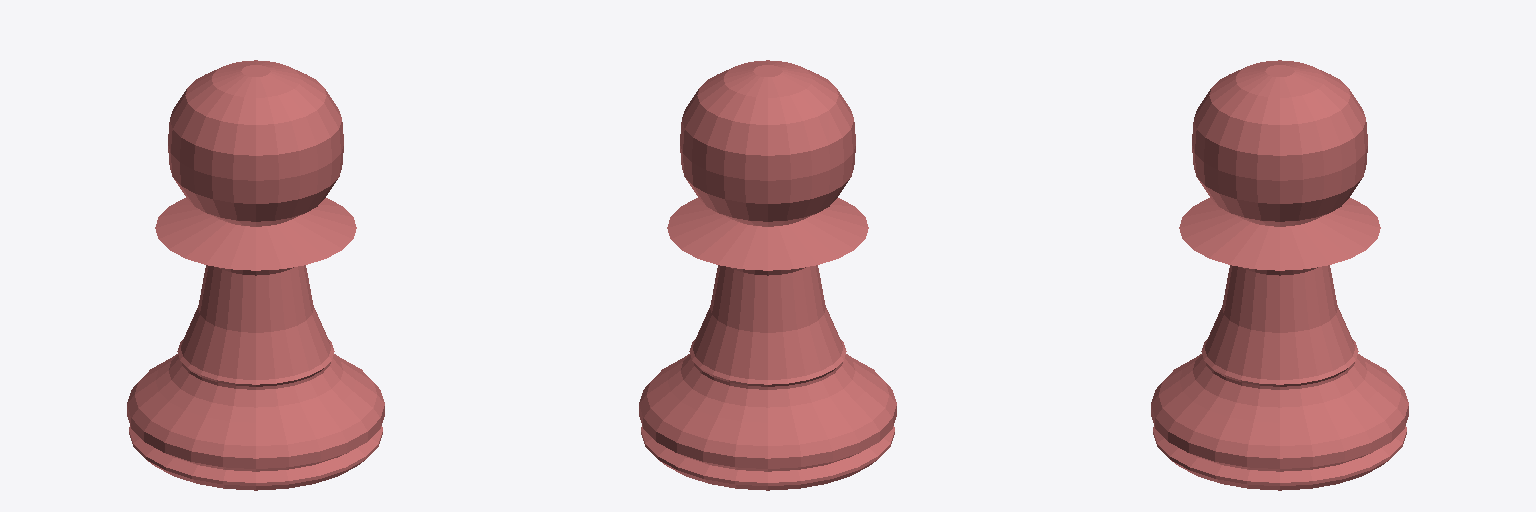
Rendered from pawn.obj.
The picture shows the model from 3 angles: view 1: azimuth 30°, elevation 25°; view 2: azimuth 150°, elevation 25°; view 3: azimuth 270°, elevation 25°; orthographic projection.
Visible parts, largest first — view 1: SketchUp_ID2.001, SketchUp.001_ID10.001, SketchUp.003_ID22.001; view 2: SketchUp_ID2.001, SketchUp.001_ID10.001, SketchUp.003_ID22.001; view 3: SketchUp_ID2.001, SketchUp.001_ID10.001, SketchUp.003_ID22.001.
Part boxes in pixels (x1,y1,x2,y2): SketchUp_ID2.001: (127,265,384,490); SketchUp.001_ID10.001: (168,60,343,226); SketchUp.003_ID22.001: (155,198,356,270); SketchUp_ID2.001: (639,265,896,490); SketchUp.001_ID10.001: (680,60,855,226); SketchUp.003_ID22.001: (667,198,868,270); SketchUp_ID2.001: (1151,265,1408,490); SketchUp.001_ID10.001: (1192,60,1367,226); SketchUp.003_ID22.001: (1179,198,1380,270).
Bounding box in the file's own units: 0.7033 × 1.11 × 0.7033.